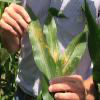Corn rust leaf: (29, 25, 59, 79), (42, 10, 64, 78)
